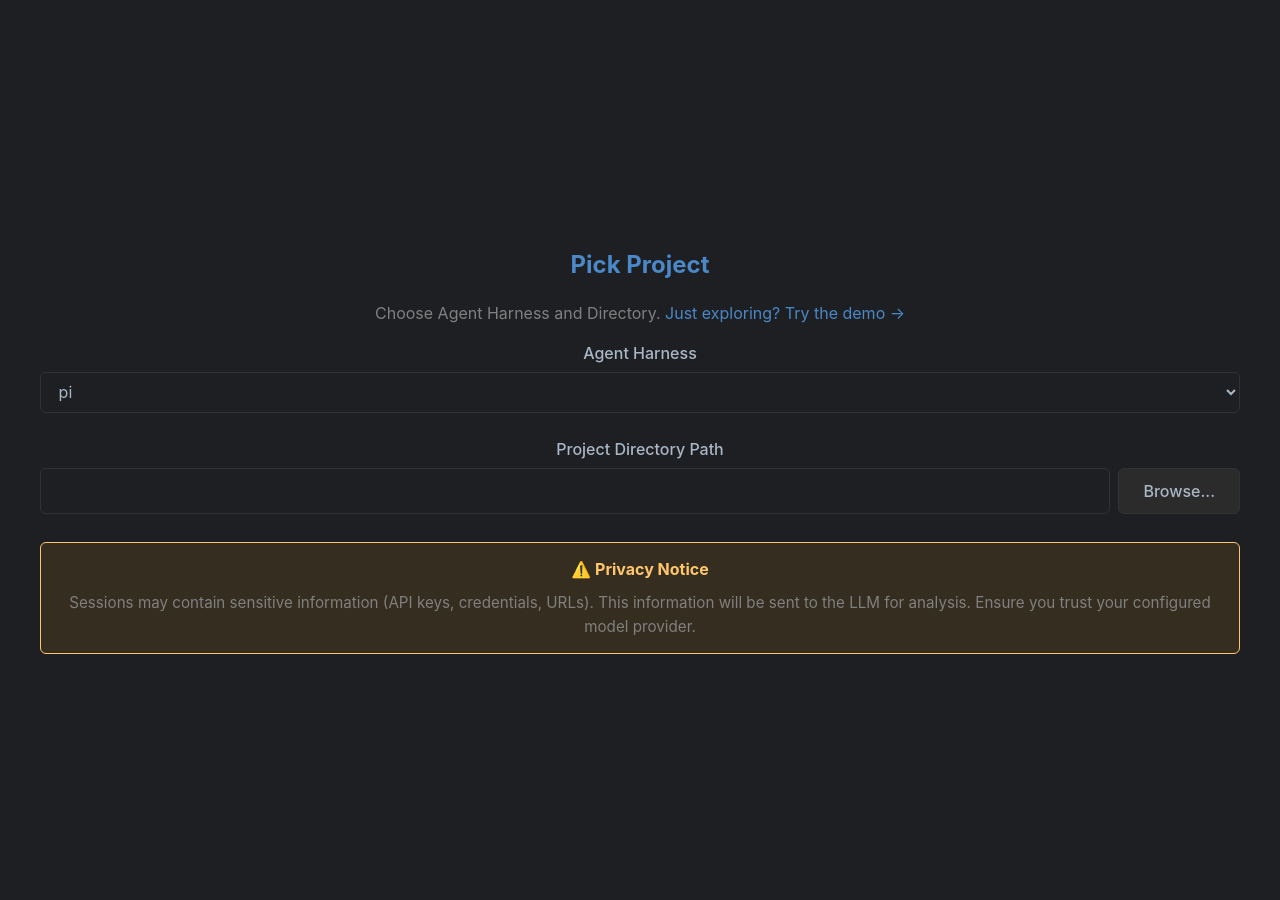
Test: ProjectPicker › fills input and searches when a directory is selected from browser
Click the button "Browse...": (1179, 492) left=1118, top=468, right=1240, bottom=514
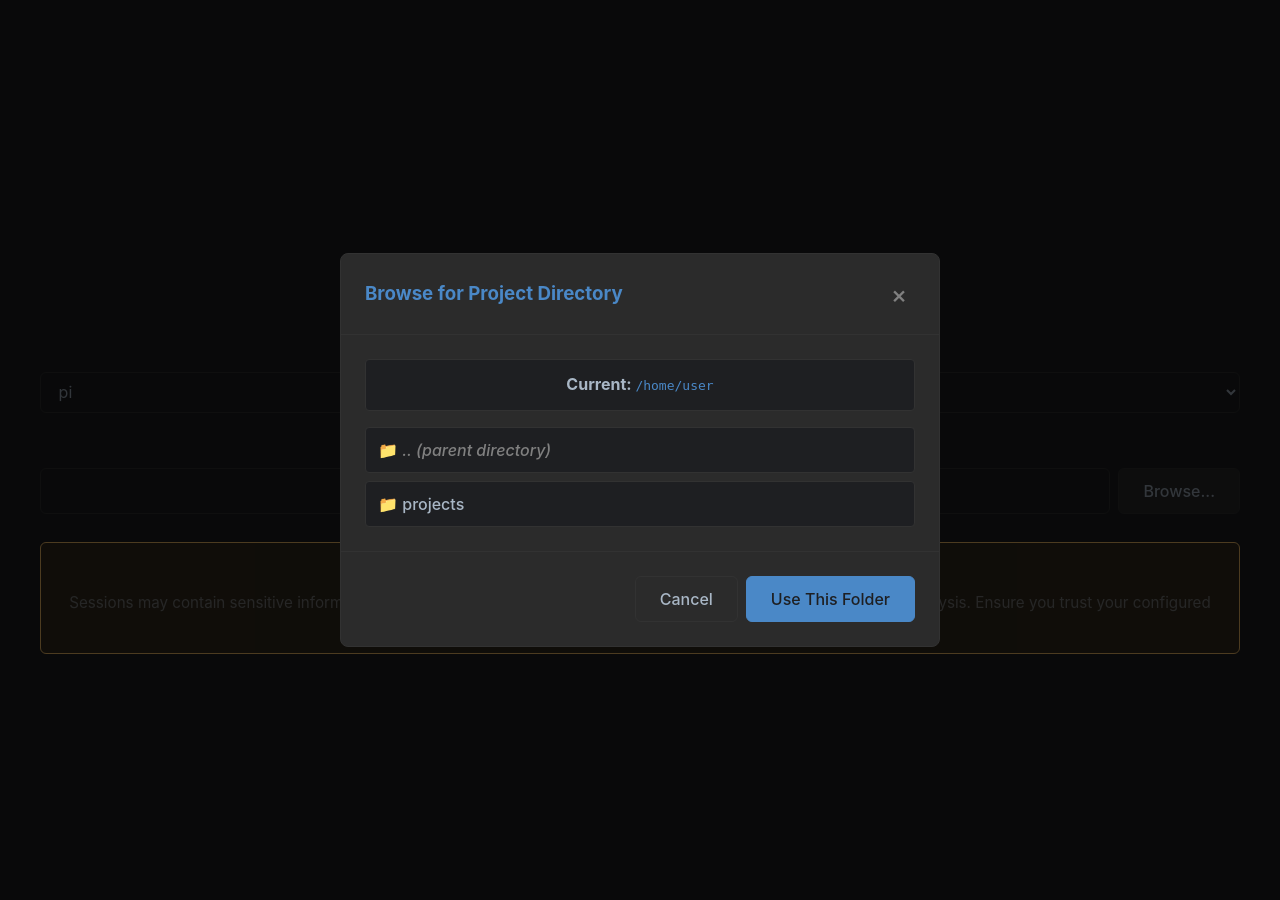
Expected: the heading "Browse for Project Directory" is shown, left=365, top=279, right=623, bottom=309
Click the button "Use This Folder": (830, 599) left=746, top=576, right=915, bottom=622
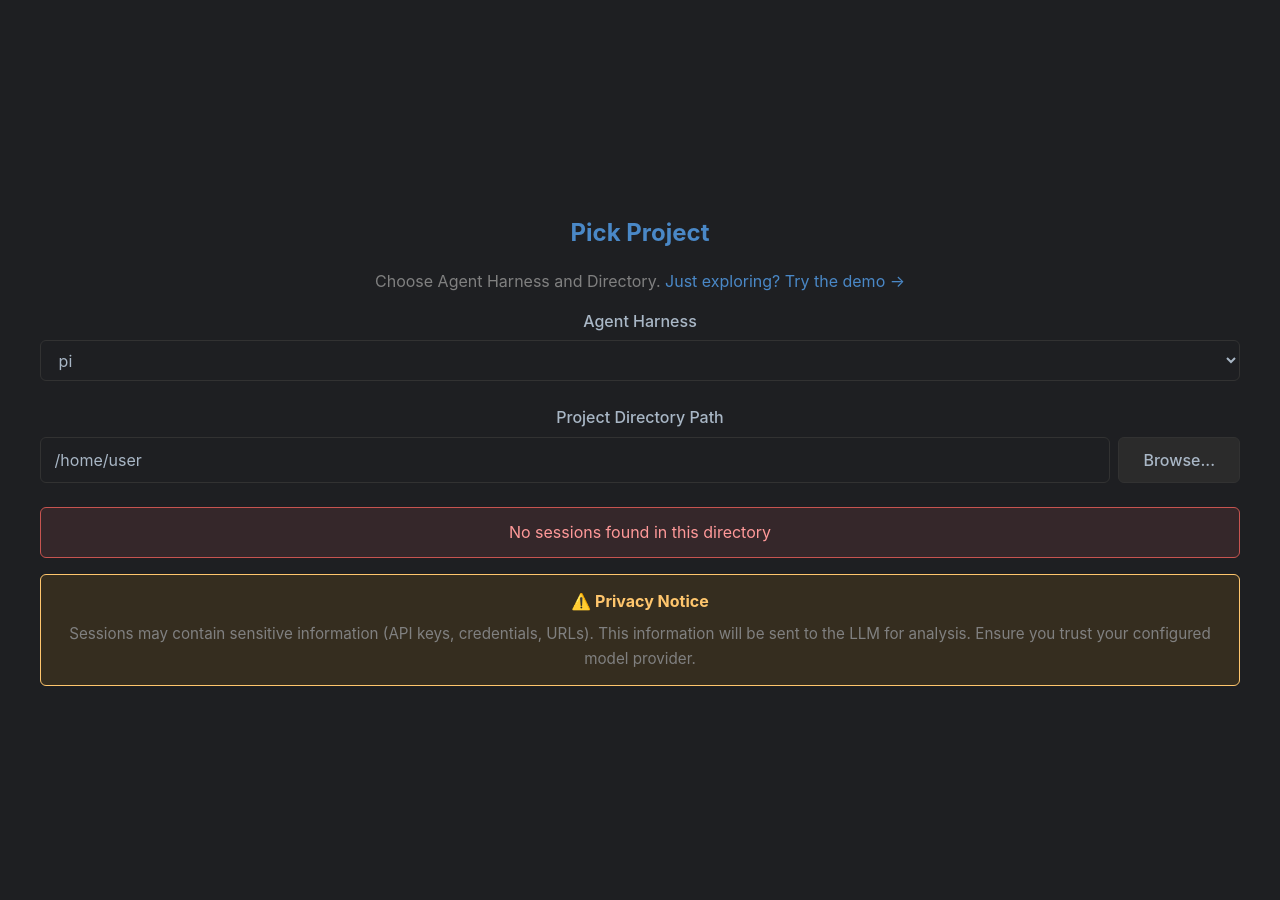
Expected: the field holds "/home/user", left=40, top=437, right=1110, bottom=483
